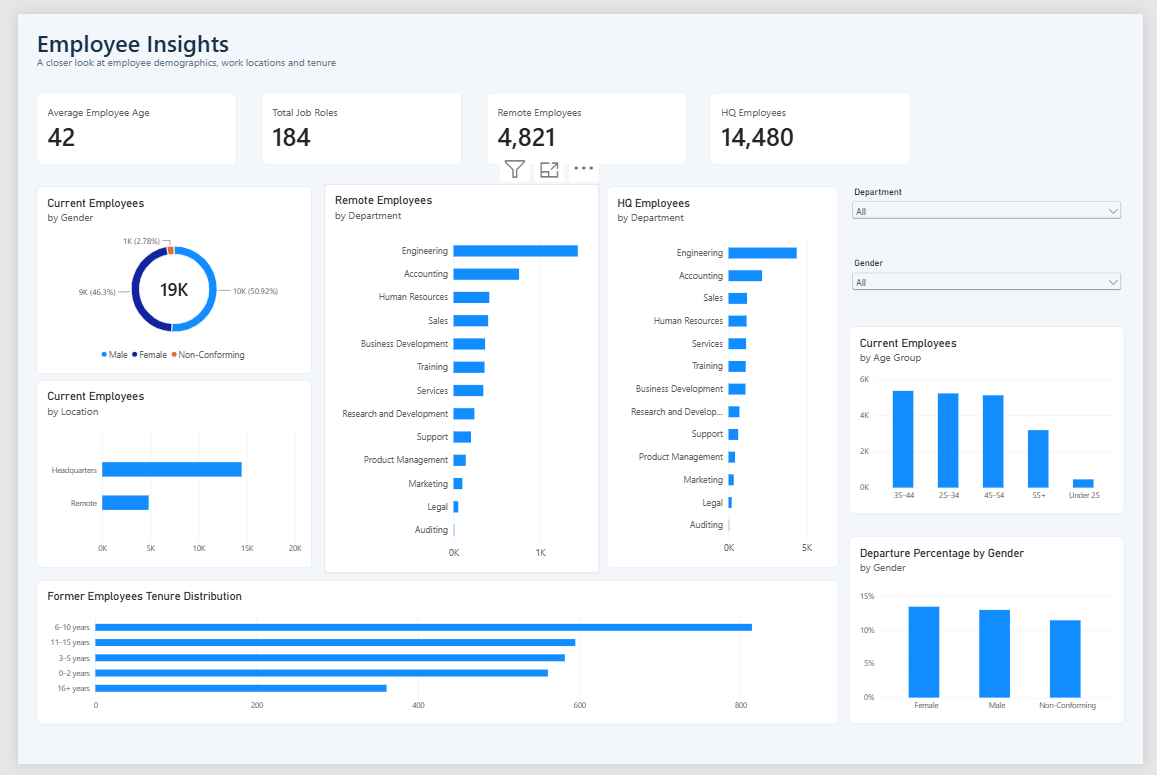

The dashboard page shown, as its layout file describes it:
{"tool":"powerbi","page":{"name":"Employee Insights","canvas":[1800,1200],"ordinal":1},"visuals":[{"type":"textbox","box":[30,65,1100,65],"z":0},{"type":"textbox","box":[30,20,430,56],"z":1000},{"type":"cardVisual","fields":{"Data":["Cleaned HR Data.Average Employee Age"]},"box":[30,125,320,115],"z":2000},{"type":"cardVisual","fields":{"Data":["Cleaned HR Data.Total Job Roles"]},"box":[390,125,320,115],"z":3000},{"type":"cardVisual","fields":{"Data":["Cleaned HR Data.Remote Employees"]},"box":[750,125,320,115],"z":4000},{"type":"cardVisual","fields":{"Data":["Cleaned HR Data.HQ Employees"]},"box":[1107.5,125,320,115],"z":5000},{"type":"donutChart","title":"Current Employees","fields":{"Category":["Cleaned HR Data.Gender"],"Y":["Cleaned HR Data.Current Employees"]},"box":[30,275,440,300],"z":6000},{"type":"clusteredColumnChart","fields":{"Category":["Cleaned HR Data.Age Group"],"Y":["Cleaned HR Data.Current Employees"]},"box":[1330,500,440,300],"z":7000},{"type":"barChart","fields":{"Category":["Cleaned HR Data.Location"],"Y":["Cleaned HR Data.Current Employees"]},"box":[30,585,440,300],"z":8000},{"type":"clusteredBarChart","title":"Former Employees Tenure Distribution","fields":{"Category":["Cleaned HR Data.Tenure Group"],"Y":["Cleaned HR Data.Former Employees"]},"box":[30,905,1282.5,230],"z":9000},{"type":"clusteredColumnChart","fields":{"Category":["Cleaned HR Data.Gender"],"Y":["Cleaned HR Data.Departure Percentage by Gender"]},"box":[1330,835,440,300],"z":10000},{"type":"slicer","fields":{"Values":["Cleaned HR Data.Department"]},"box":[1330,275,440,82.5],"z":11000},{"type":"clusteredBarChart","fields":{"Category":["Cleaned HR Data.Department"],"Y":["Cleaned HR Data.Remote Employees"]},"box":[490,272.5,440,622.5],"z":12000},{"type":"clusteredBarChart","fields":{"Category":["Cleaned HR Data.Department"],"Y":["Cleaned HR Data.HQ Employees"]},"box":[942.5,275,370,610],"z":12001},{"type":"slicer","fields":{"Values":["Cleaned HR Data.Gender"]},"box":[1330,390,440,67.5],"z":12002}]}

Visuals, with their boxes in screenshot pixels (x1, y1, x2, y2), scaled from the page's 1800x1200 canvas onto the 1157x775 screenshot:
textbox: crop(19, 42, 726, 84)
textbox: crop(19, 13, 296, 49)
cardVisual - Cleaned HR Data.Average Employee Age: crop(19, 81, 225, 155)
cardVisual - Cleaned HR Data.Total Job Roles: crop(251, 81, 456, 155)
cardVisual - Cleaned HR Data.Remote Employees: crop(482, 81, 688, 155)
cardVisual - Cleaned HR Data.HQ Employees: crop(712, 81, 918, 155)
"Current Employees" donutChart: crop(19, 178, 302, 371)
clusteredColumnChart - Cleaned HR Data.Age Group x Cleaned HR Data.Current Employees: crop(855, 323, 1138, 517)
barChart - Cleaned HR Data.Location x Cleaned HR Data.Current Employees: crop(19, 378, 302, 572)
"Former Employees Tenure Distribution" clusteredBarChart: crop(19, 584, 844, 733)
clusteredColumnChart - Cleaned HR Data.Gender x Cleaned HR Data.Departure Percentage by Gender: crop(855, 539, 1138, 733)
slicer - Cleaned HR Data.Department: crop(855, 178, 1138, 231)
clusteredBarChart - Cleaned HR Data.Department x Cleaned HR Data.Remote Employees: crop(315, 176, 598, 578)
clusteredBarChart - Cleaned HR Data.Department x Cleaned HR Data.HQ Employees: crop(606, 178, 844, 572)
slicer - Cleaned HR Data.Gender: crop(855, 252, 1138, 295)
